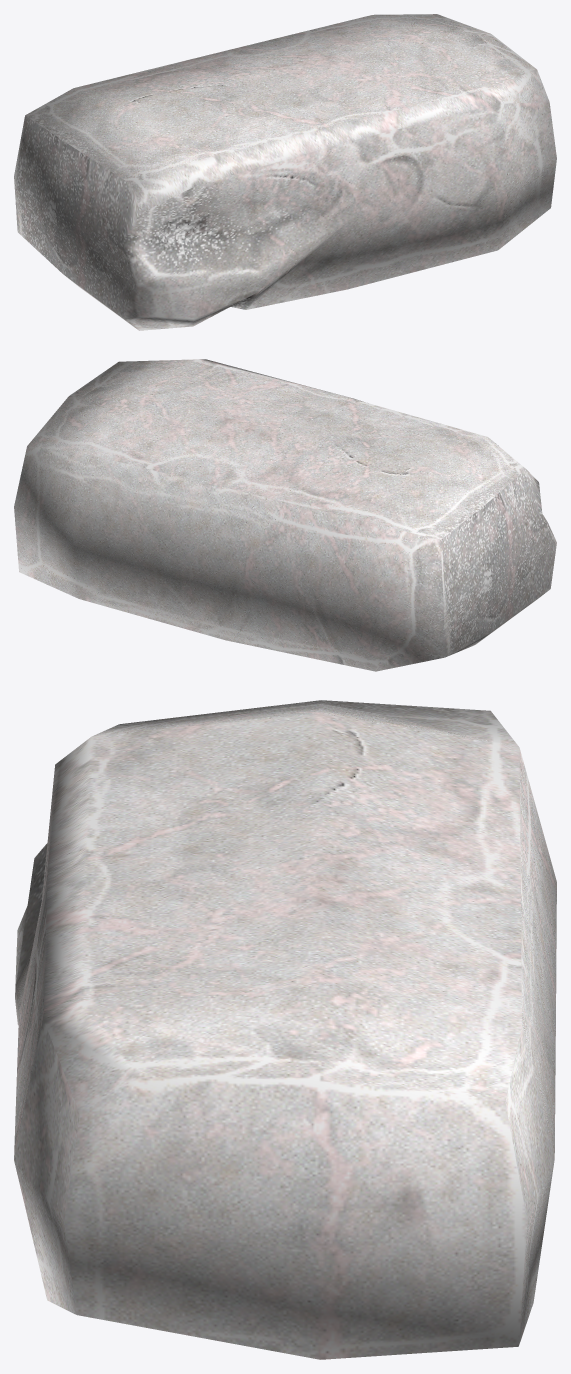
The model's file is rock_slab_02.fbx.
3 views of the same model, one above another, from view 1: azimuth 30°, elevation 25°; view 2: azimuth 150°, elevation 25°; view 3: azimuth 270°, elevation 25° (orthographic). The views are drawn at different scales.
Visible parts, largest first — view 1: rock_slab_02; view 2: rock_slab_02; view 3: rock_slab_02.
Boxes of the visible parts, x1,y1,x2,y2 form: rock_slab_02: (14,14,556,330); rock_slab_02: (14,359,556,671); rock_slab_02: (14,700,556,1359).
Size of the model in its own units: 0.2705 by 0.104 by 0.1518.
